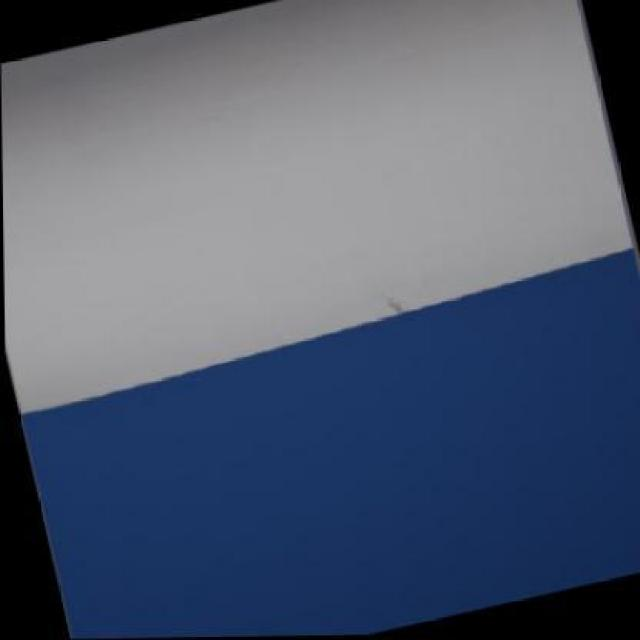Crack: (367, 290, 410, 319)
